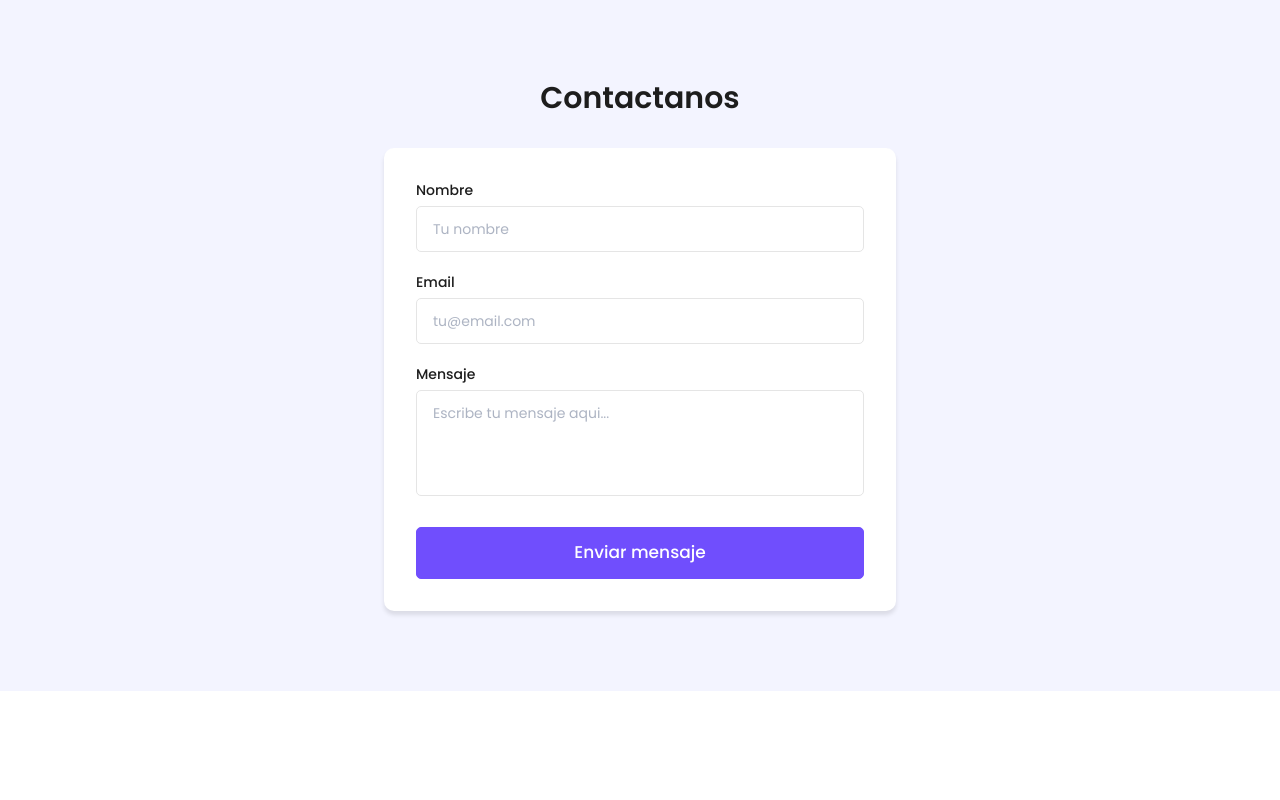
Test: ContactForm › shows error for invalid email
Type "Test" into the field labelled "Nombre" at point(640, 229), box x1=416 y1=206 x2=864 y2=252
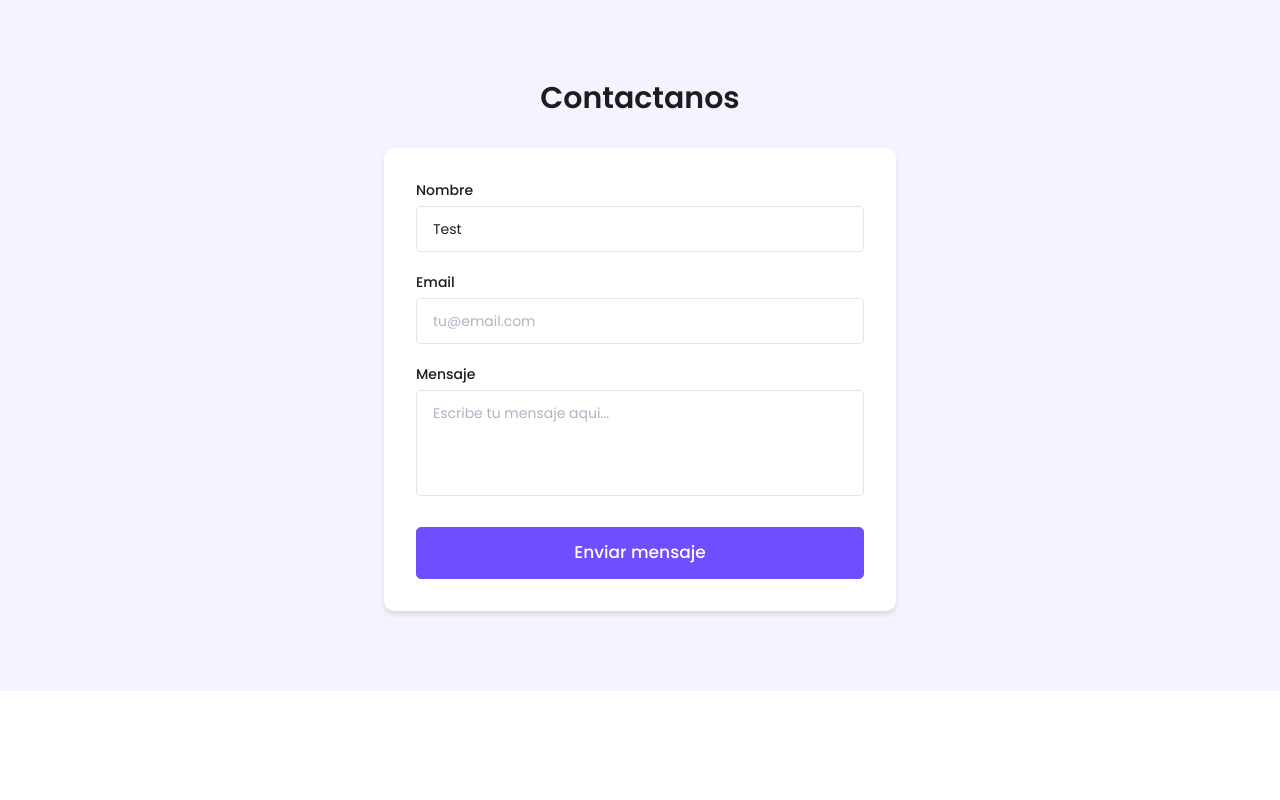
Type "invalid" into the field labelled "Email" at point(640, 321), box x1=416 y1=298 x2=864 y2=344
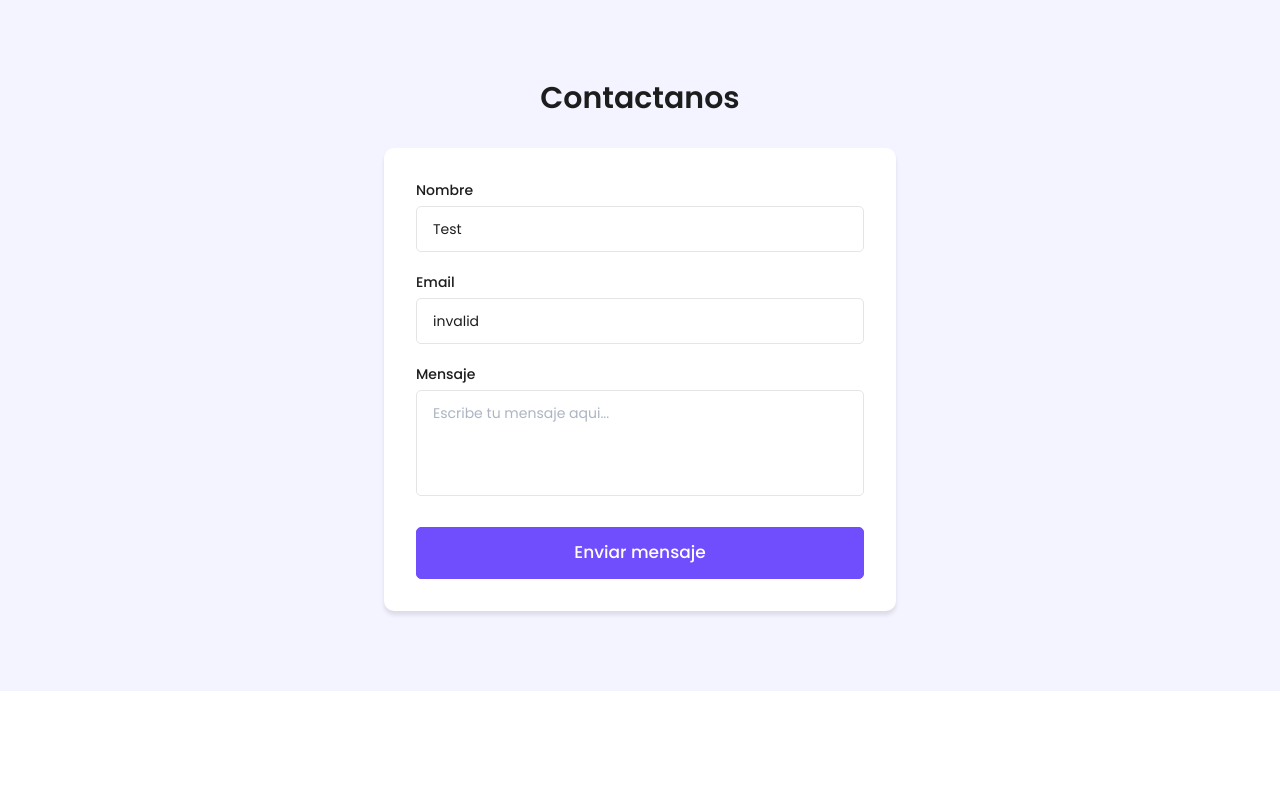
Click the button "Enviar mensaje" at point(640, 553), box x1=416 y1=527 x2=864 y2=578
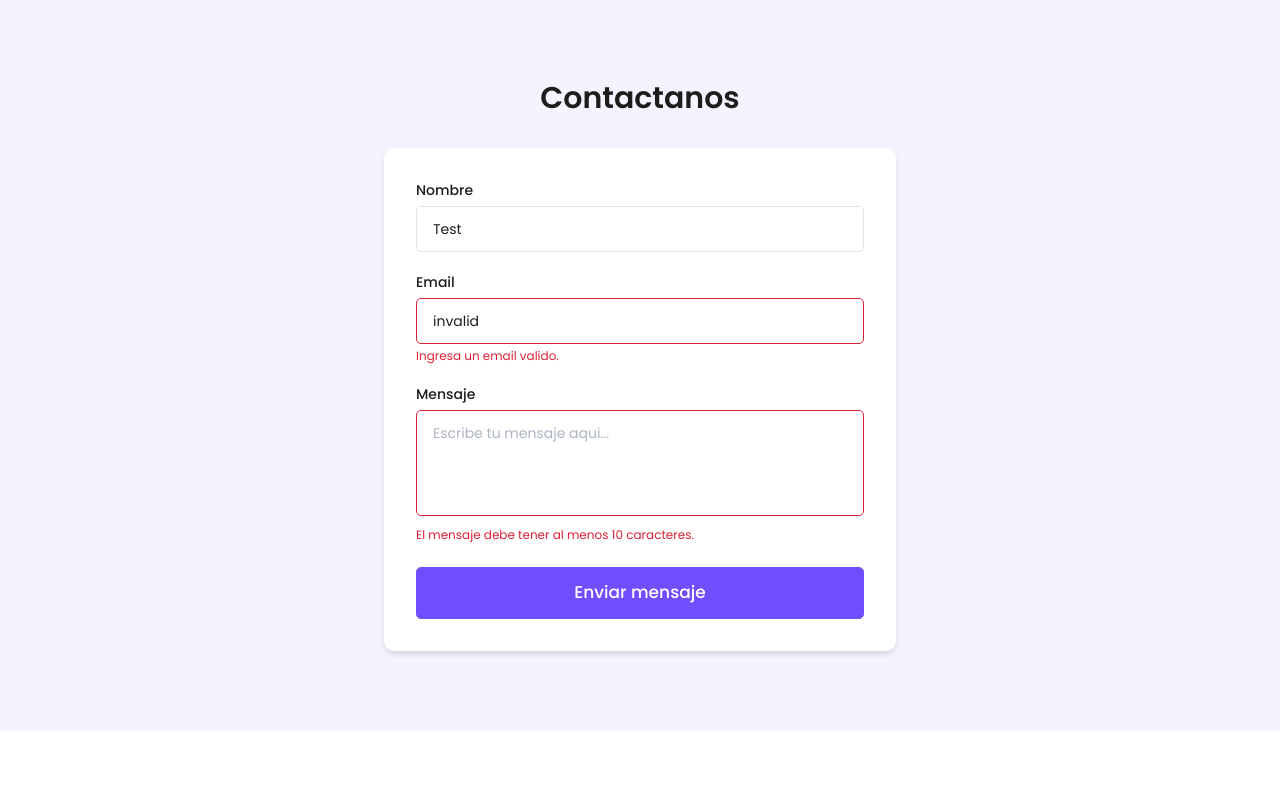
Now the text "Ingresa un email valido." is shown, box x1=416 y1=347 x2=559 y2=364
